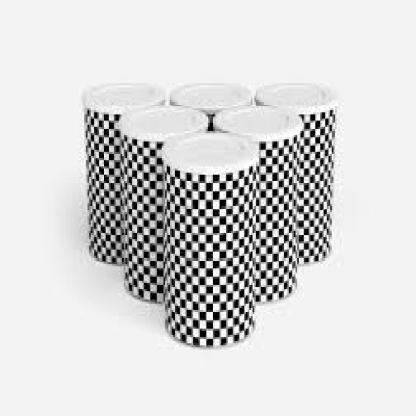METAL: (160, 133, 253, 347), (117, 100, 208, 304), (211, 104, 297, 304), (253, 81, 335, 262), (81, 83, 163, 262), (168, 79, 251, 129)
